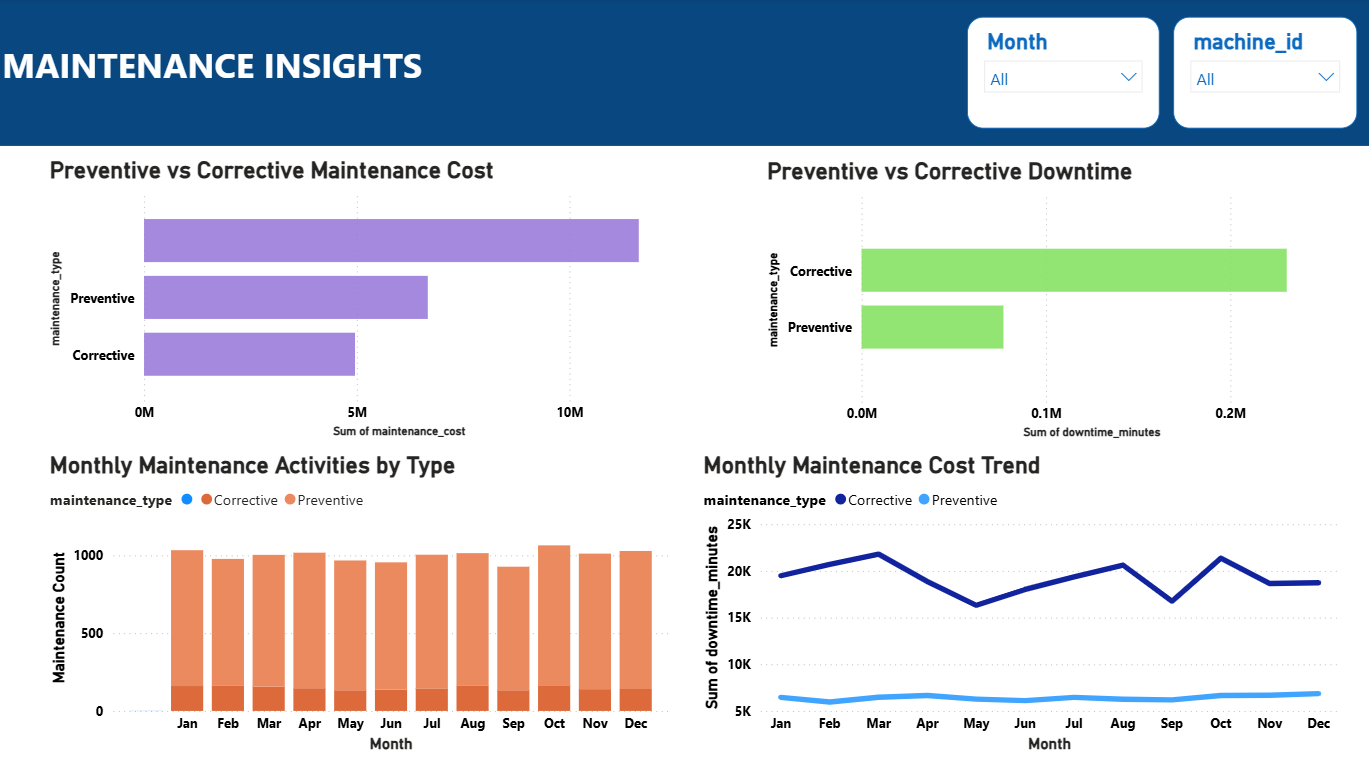

This screenshot's page, from the dashboard's own definition file:
{"tool":"powerbi","page":{"name":"Mainatenance Analysis","canvas":[1280,720],"ordinal":3},"visuals":[{"type":"textbox","box":[0,0,1278.4,137.7],"z":0},{"type":"slicer","fields":{"Values":["manufacturing_downtime_dataset.Month"]},"box":[902.6,17.4,179.2,104.3],"z":1},{"type":"slicer","fields":{"Values":["manufacturing_downtime_dataset.machine_id"]},"box":[1093.9,17.4,171.2,104.3],"z":2},{"type":"clusteredBarChart","title":"Preventive vs Corrective Maintenance Cost","fields":{"Category":["manufacturing_downtime_dataset.maintenance_type"],"Y":["Sum(manufacturing_downtime_dataset.maintenance_cost)"]},"box":[44.1,147.1,585.7,266.1],"z":3},{"type":"barChart","title":"Preventive vs Corrective Downtime","fields":{"Category":["manufacturing_downtime_dataset.maintenance_type"],"Y":["Sum(manufacturing_downtime_dataset.downtime_minutes)"]},"box":[711.4,148.4,541.6,266.1],"z":4},{"type":"columnChart","title":"Monthly Maintenance Activities by Type","fields":{"Category":["manufacturing_downtime_dataset.Month"],"Y":["manufacturing_downtime_dataset.Maintenance Count"],"Series":["manufacturing_downtime_dataset.maintenance_type"]},"box":[44.1,422.6,585.7,284.8],"z":5},{"type":"lineChart","title":"Monthly Maintenance Cost Trend","fields":{"Category":["manufacturing_downtime_dataset.Month"],"Series":["manufacturing_downtime_dataset.maintenance_type"],"Y":["Sum(manufacturing_downtime_dataset.downtime_minutes)"]},"box":[652.6,422.6,600.4,284.8],"z":6}]}

Visuals, with their boxes in screenshot pixels (x1, y1, x2, y2), scaled from the page's 1280x720 canvas onto the 1369x769 screenshot:
textbox: detection(0, 0, 1367, 147)
slicer - manufacturing_downtime_dataset.Month: detection(965, 19, 1157, 130)
slicer - manufacturing_downtime_dataset.machine_id: detection(1170, 19, 1353, 130)
"Preventive vs Corrective Maintenance Cost" clusteredBarChart: detection(47, 157, 674, 441)
"Preventive vs Corrective Downtime" barChart: detection(761, 158, 1340, 443)
"Monthly Maintenance Activities by Type" columnChart: detection(47, 451, 674, 756)
"Monthly Maintenance Cost Trend" lineChart: detection(698, 451, 1340, 756)
